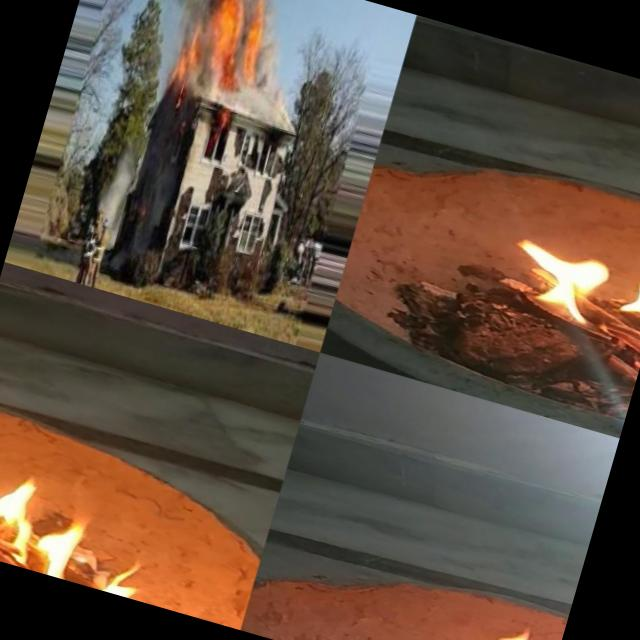fire: (0, 435, 197, 609), (469, 198, 640, 396), (416, 602, 547, 640), (200, 0, 249, 84), (230, 0, 274, 91), (162, 21, 199, 82)
smoke: (95, 150, 139, 222), (250, 25, 285, 95), (150, 0, 224, 30)
